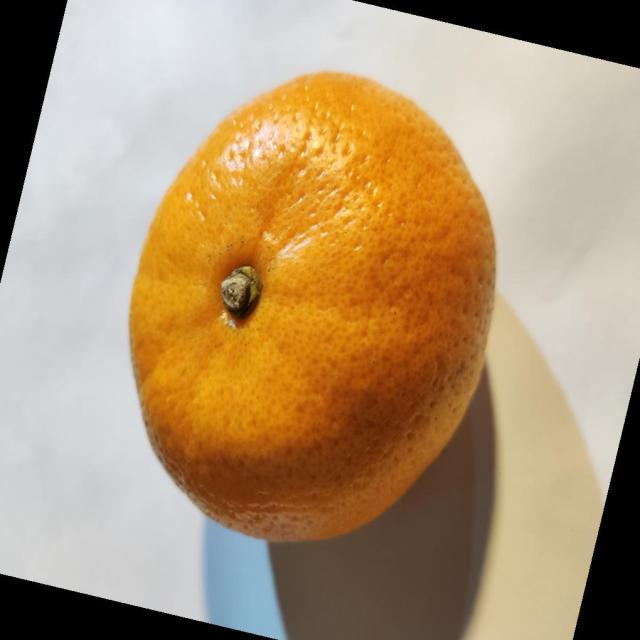fresh orange: (126, 69, 498, 543)
